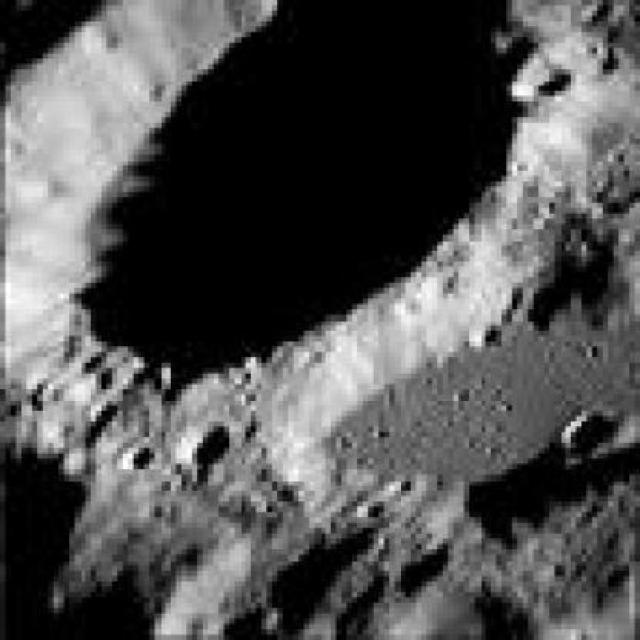crater: (46, 0, 565, 394)
